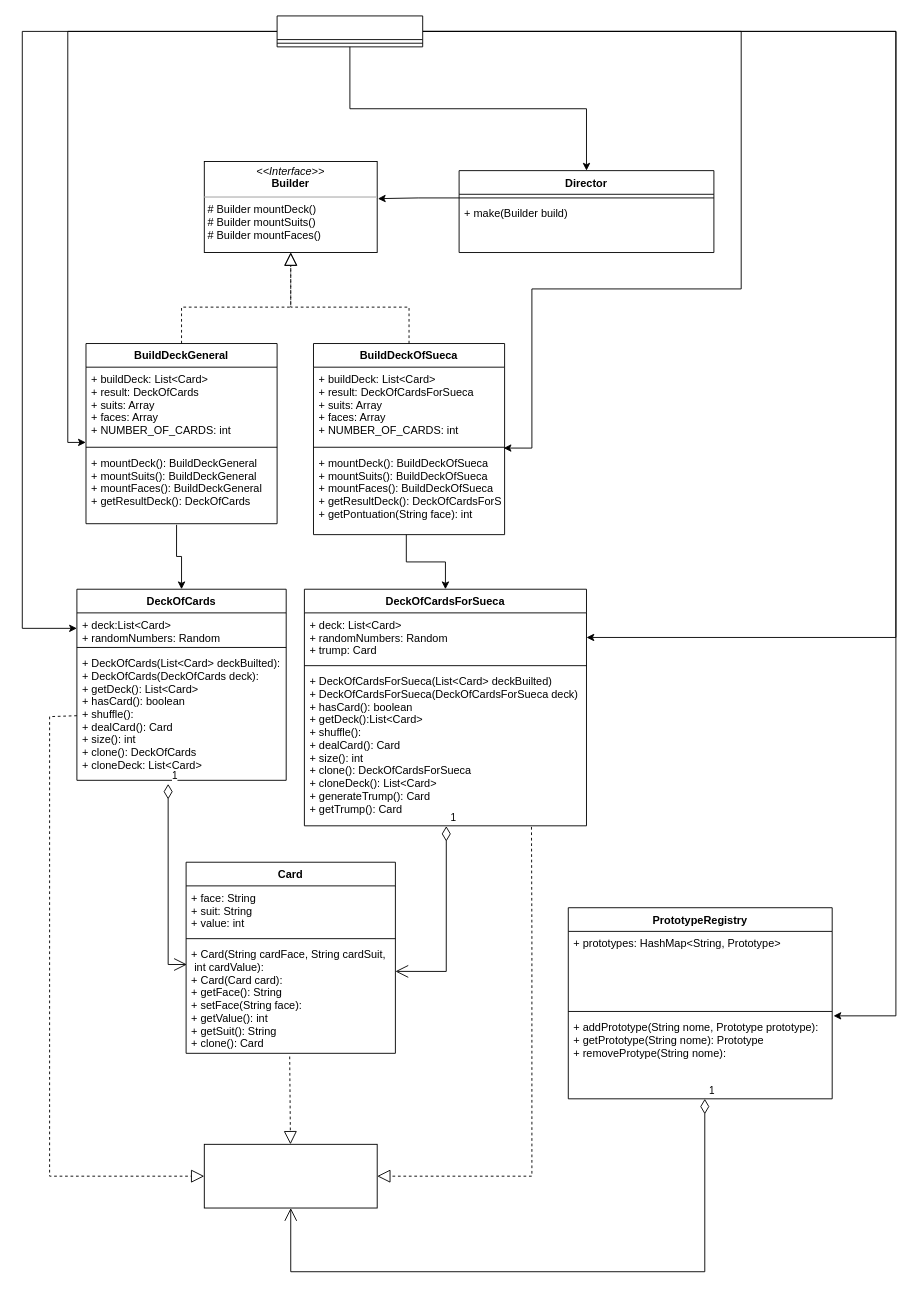
The diagram is 919 pixels wide and 1303 high, and some of its shapes have lost their labels. Here are the shapes that lost their labels. From the top down, the centre of each, then its label:
At [349,31]: "MainApplication".
At [290,1175]: "<<Interface>> Prototype # clone(): Prototype".
